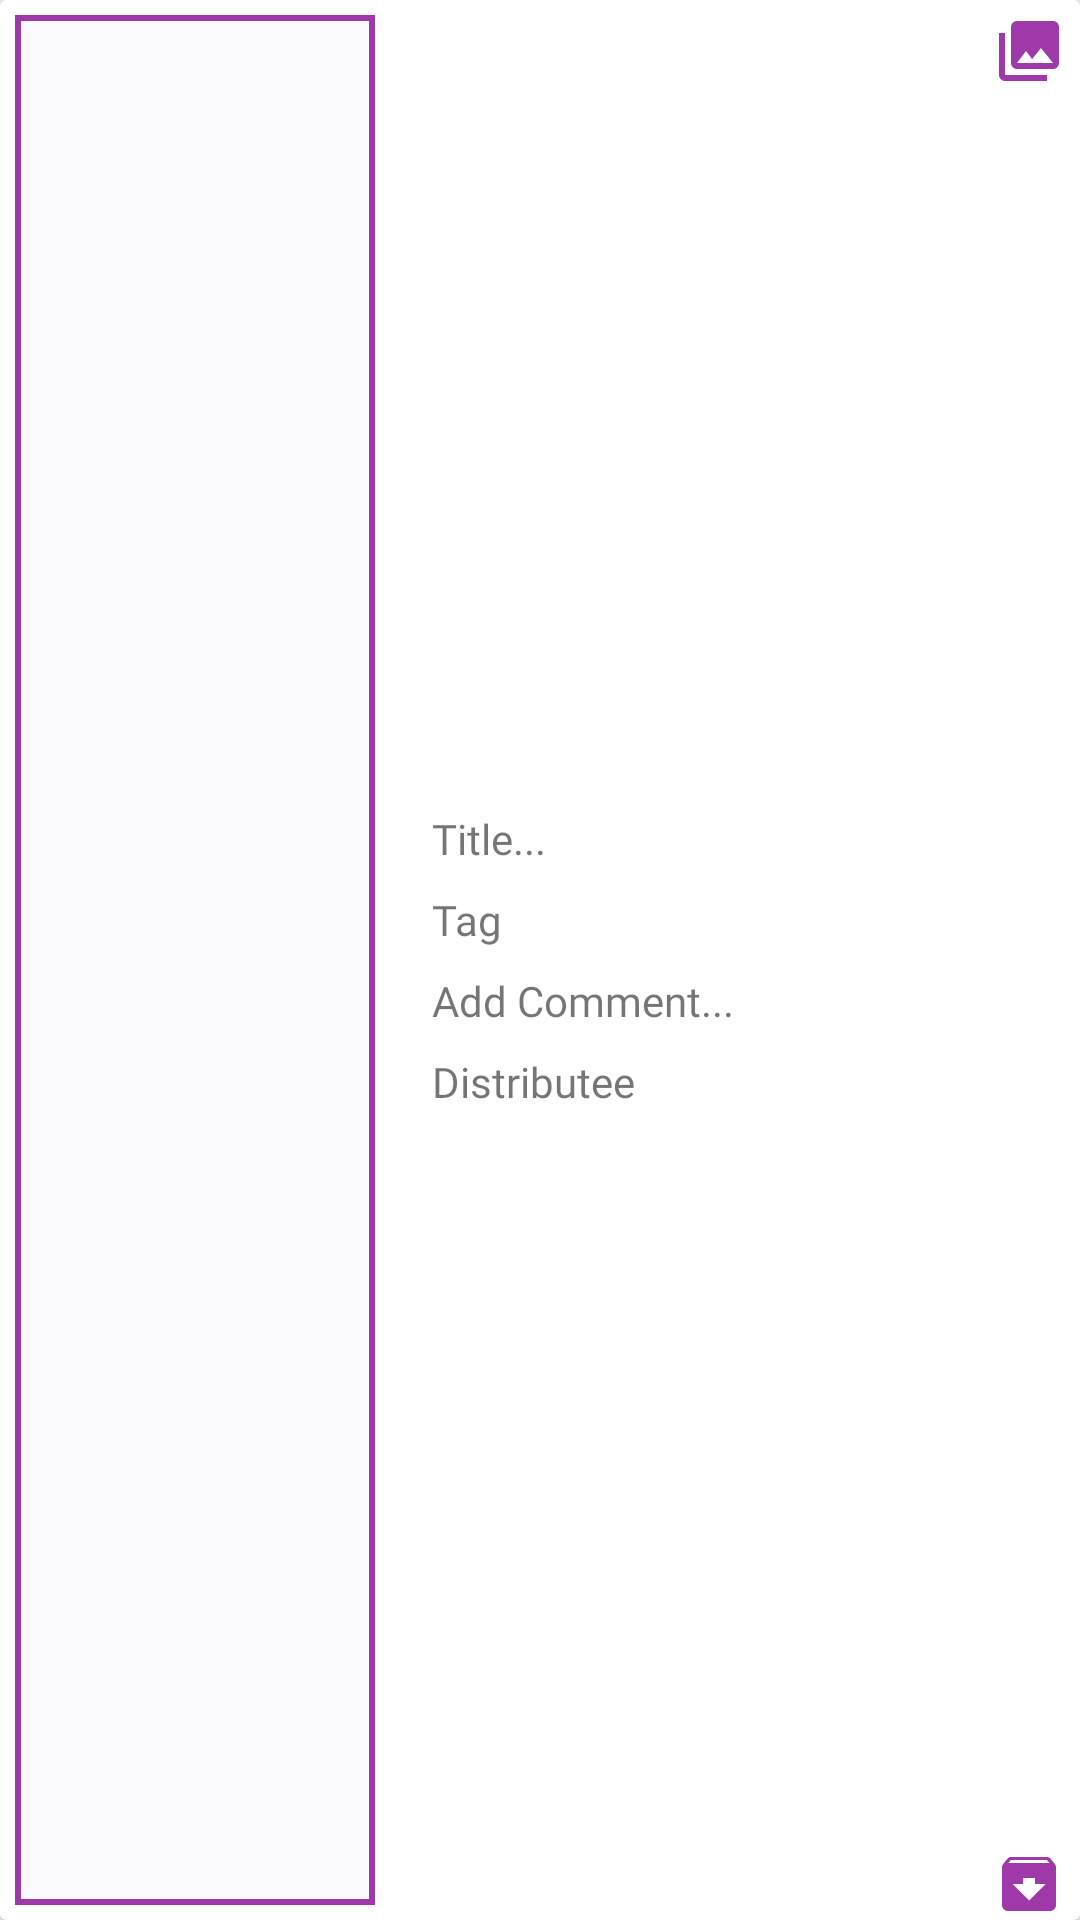

Where icons sit on this 1080w x 1920h app screen, as detection(x1, y1, x2, y2):
archive: detection(1002, 1857, 1056, 1911)
